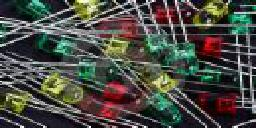LED: (38, 72, 85, 102), (83, 92, 127, 122), (32, 32, 79, 59), (139, 63, 180, 93), (183, 30, 226, 57), (198, 93, 244, 114), (144, 91, 177, 120)
